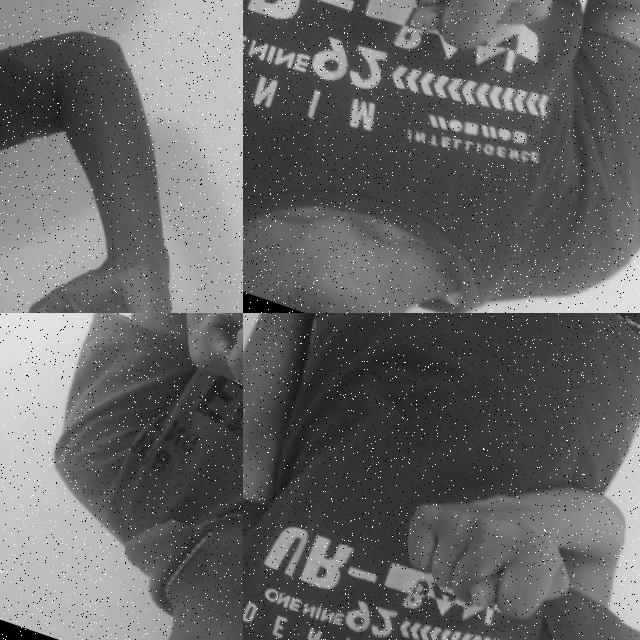Dulya: (381, 458, 611, 640), (345, 0, 607, 83)
Middle Finger: (141, 313, 243, 513)
Okay: (0, 220, 213, 313)
